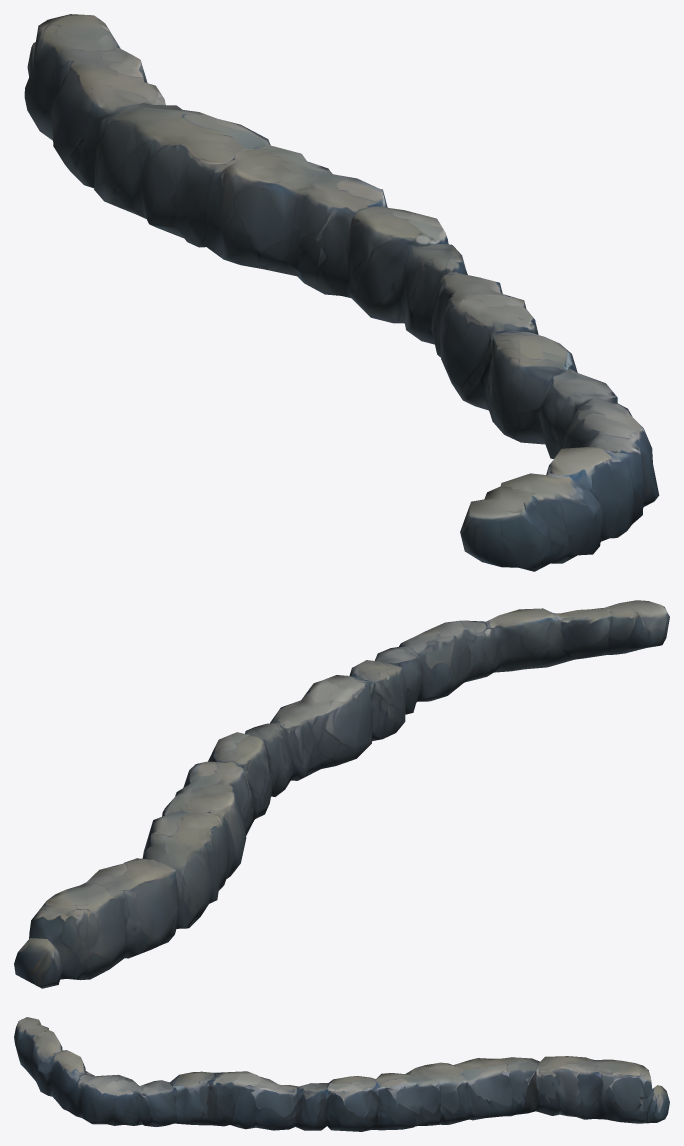
Rendered from bo_song_16.glb.
3 views of the same model, one above another, from view 1: azimuth 30°, elevation 25°; view 2: azimuth 150°, elevation 25°; view 3: azimuth 270°, elevation 25° (orthographic). The views are drawn at different scales.
Parts seen in each view (by area): view 1: tripo_node_3c14faea-2f45-4b52-bc25-f05bad4b9ee5; view 2: tripo_node_3c14faea-2f45-4b52-bc25-f05bad4b9ee5; view 3: tripo_node_3c14faea-2f45-4b52-bc25-f05bad4b9ee5.
Part boxes in pixels (<box>): tripo_node_3c14faea-2f45-4b52-bc25-f05bad4b9ee5: <box>24,14,659,571</box>; tripo_node_3c14faea-2f45-4b52-bc25-f05bad4b9ee5: <box>14,600,669,988</box>; tripo_node_3c14faea-2f45-4b52-bc25-f05bad4b9ee5: <box>14,1017,669,1131</box>.
Bounding box in the file's own units: 0.266 × 0.0837 × 1.
Materials: 1 (1 with a texture image).
